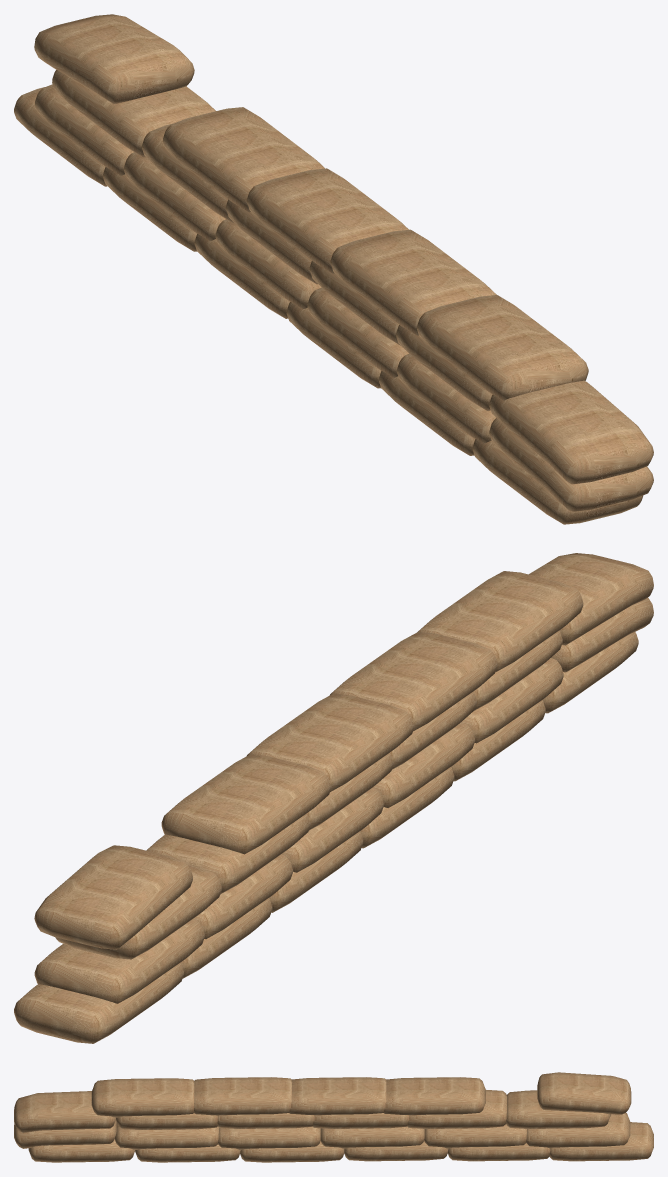
File: meshocki.fbx
3 views of the same model, one above another, from view 1: azimuth 30°, elevation 25°; view 2: azimuth 150°, elevation 25°; view 3: azimuth 270°, elevation 25° (orthographic). The views are drawn at different scales.
Visible parts, largest first — view 1: Cube.013, Cube.002, Cube.021, Cube.016, Cube.020, Cube.017, Cube.022, Cube.001, Cube.005, Cube, Cube.008, Cube.004 (+11 smaller); view 2: Cube.021, Cube.020, Cube.013, Cube.016, Cube.017, Cube.012, Cube.011, Cube.002, Cube.019, Cube.022, Cube.005, Cube.004 (+11 smaller); view 3: Cube.013, Cube.020, Cube.016, Cube.017, Cube.021, Cube.002, Cube.022, Cube.012, Cube.005, Cube.011, Cube.004, Cube.008 (+11 smaller).
Boxes of the visible parts, x1,y1,x2,y2 form: Cube.013: [417, 295, 588, 400]; Cube.002: [489, 380, 653, 484]; Cube.021: [34, 14, 194, 103]; Cube.016: [330, 229, 496, 335]; Cube.020: [163, 107, 324, 212]; Cube.017: [246, 168, 408, 273]; Cube.022: [52, 69, 215, 157]; Cube.001: [489, 418, 653, 512]; Cube.005: [307, 287, 408, 377]; Cube: [472, 439, 643, 524]; Cube.008: [215, 219, 321, 308]; Cube.004: [397, 354, 495, 443]; Cube.021: [34, 845, 192, 949]; Cube.020: [161, 754, 331, 854]; Cube.013: [418, 571, 583, 671]; Cube.016: [329, 632, 497, 731]; Cube.017: [247, 693, 414, 791]; Cube.012: [34, 919, 204, 1003]; Cube.011: [14, 962, 183, 1043]; Cube.002: [529, 553, 653, 645]; Cube.019: [146, 813, 310, 894]; Cube.022: [55, 864, 221, 959]; Cube.005: [372, 722, 474, 807]; Cube.004: [461, 658, 563, 743]; Cube.013: [91, 1078, 194, 1117]; Cube.020: [384, 1077, 485, 1115]; Cube.016: [194, 1077, 291, 1115]; Cube.017: [289, 1077, 386, 1115]; Cube.021: [537, 1072, 631, 1114]; Cube.002: [14, 1091, 115, 1133]; Cube.022: [506, 1090, 610, 1128]; Cube.012: [526, 1113, 630, 1148]; Cube.005: [218, 1126, 320, 1149]; Cube.011: [549, 1122, 653, 1161]; Cube.004: [114, 1122, 218, 1149]; Cube.008: [320, 1126, 424, 1148].
Bounding box in the file's own units: 202 × 263 × 2085.
